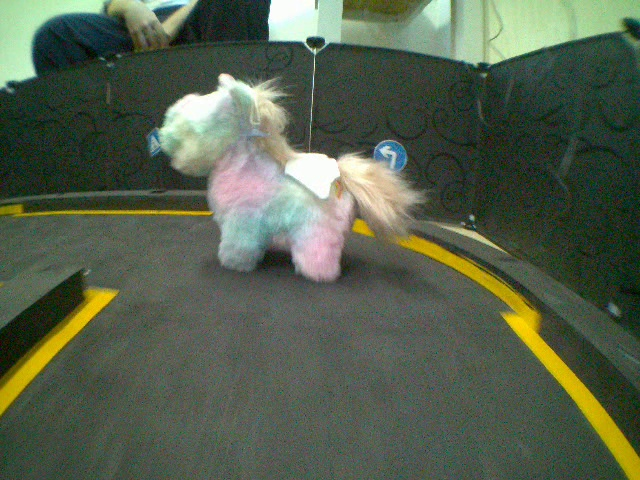unicorn: (147, 72, 424, 283)
